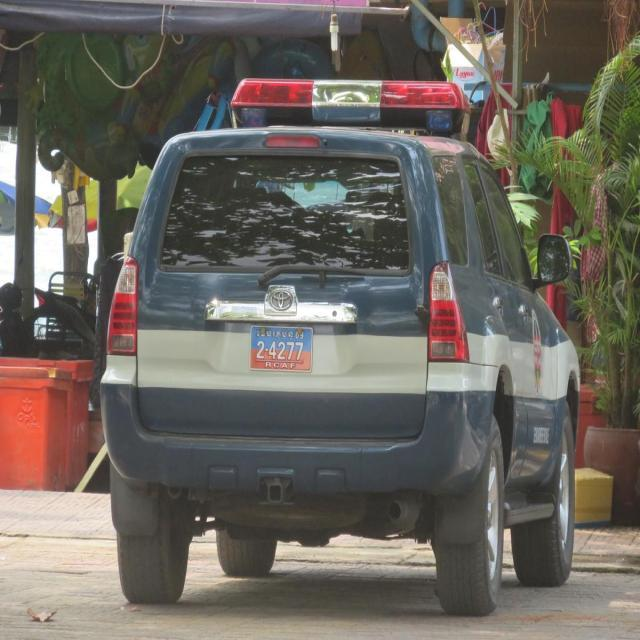RCAF: (257, 328, 294, 340)
